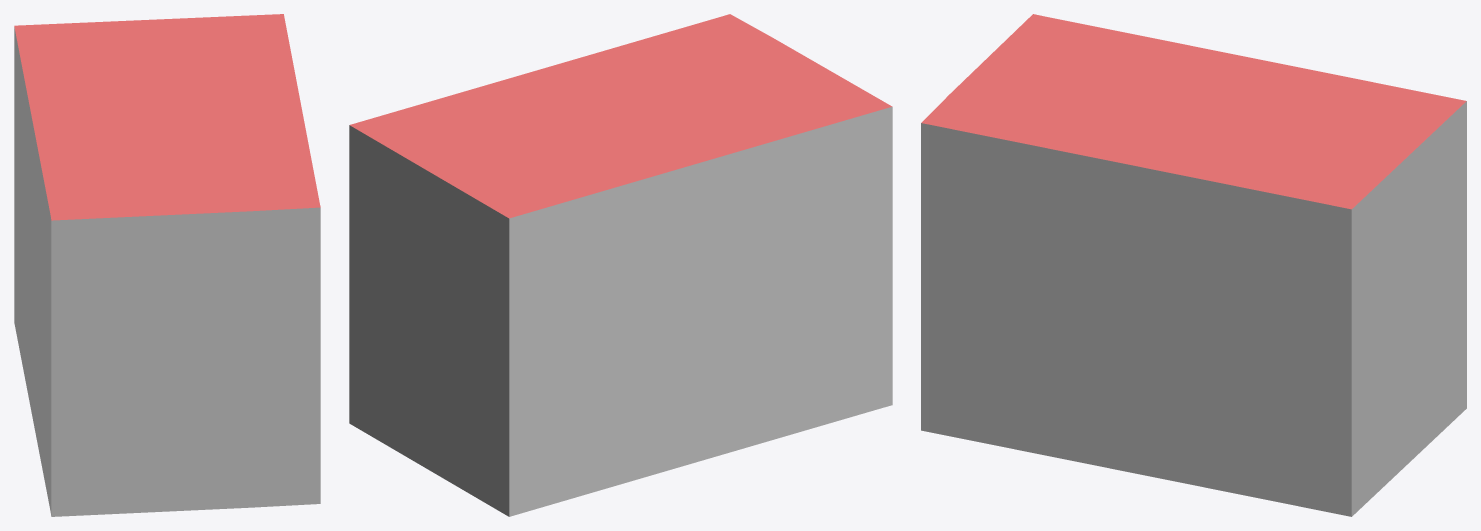
The model's file is DEBY_LOD2_4907199.gltf.
The picture shows the model from 3 angles, left to right: view 1: azimuth 30°, elevation 25°; view 2: azimuth 150°, elevation 25°; view 3: azimuth 270°, elevation 25°; orthographic projection. The views are drawn at different scales.
Parts seen in each view (by area): view 1: Z_UP; view 2: Z_UP; view 3: Z_UP.
Boxes of the visible parts, x1,y1,x2,y2 form: Z_UP: [14, 14, 320, 516]; Z_UP: [349, 14, 892, 516]; Z_UP: [921, 14, 1466, 516].
Size of the model in its own units: 12.22 by 8.97 by 14.42.
